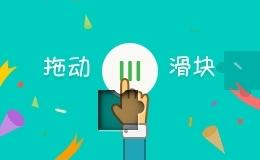target: (78, 70, 118, 110)
